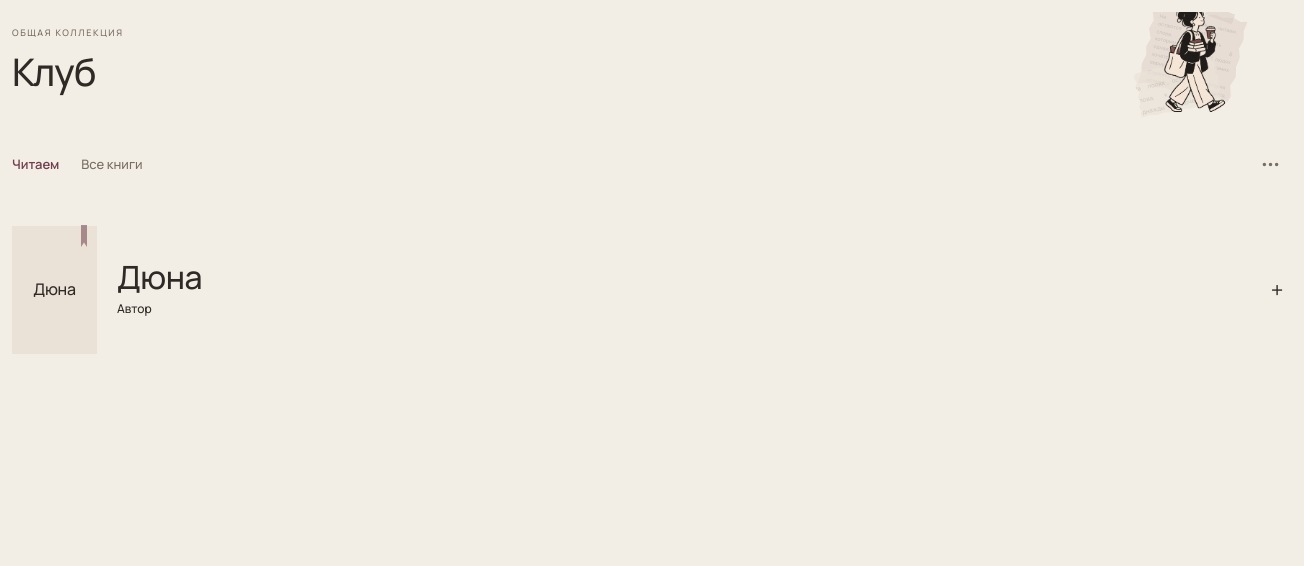
в прогрессе видны все действующие участники, отсутствие отметки не превращается в ноль процентов
Click the button with aria-label "Открыть прогресс: Дюна" at (652, 290), box 12,206 -> 1292,374
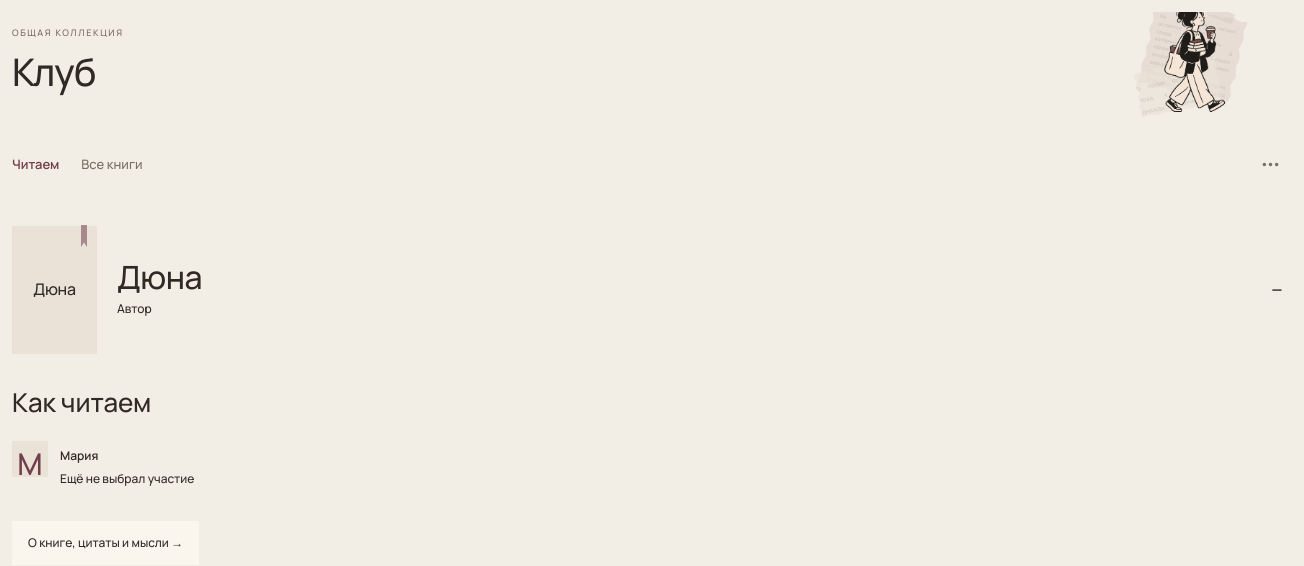
Expected: the button with aria-label "Чтение Мария: Дюна" is shown, 12,429 -> 1292,507
Expected: the text "Ещё не выбрал участие" is shown, 60,470 -> 194,487
